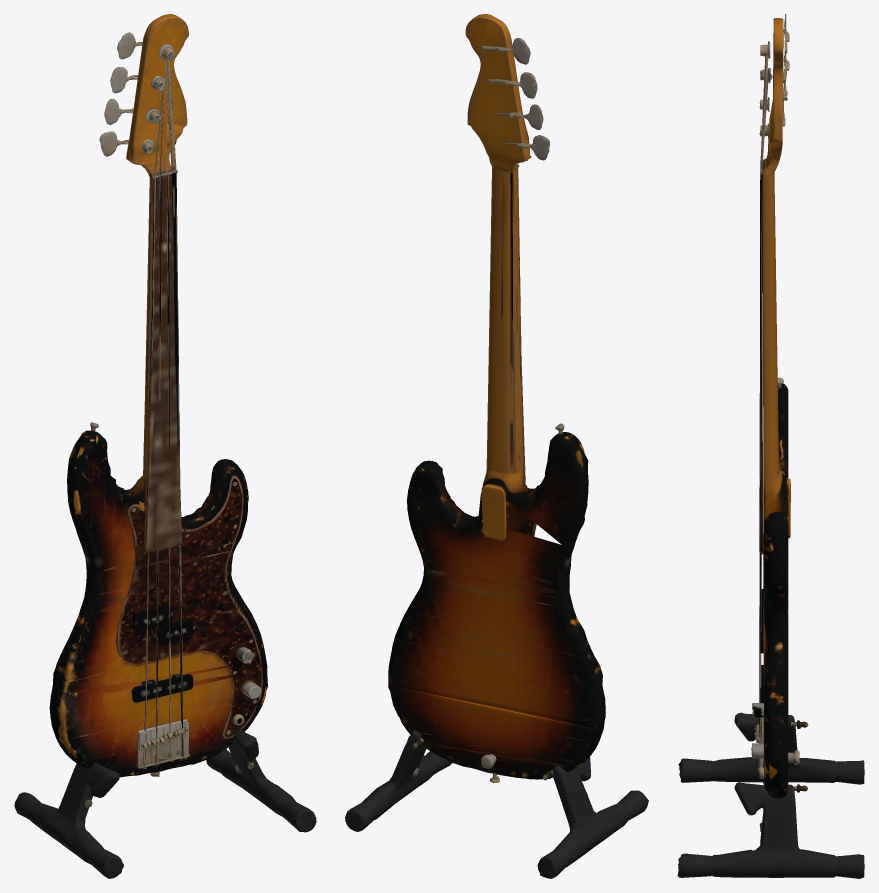
Rendered from desktop.glb.
3 views of the same model, side by side, from view 1: azimuth 30°, elevation 25°; view 2: azimuth 150°, elevation 25°; view 3: azimuth 270°, elevation 25° (orthographic).
Parts seen in each view (by area): view 1: bassguitar; view 2: bassguitar; view 3: bassguitar.
Part boxes in pixels (left/top/right/bottom): bassguitar: left=14, top=14, right=316, bottom=878; bassguitar: left=345, top=14, right=648, bottom=878; bassguitar: left=677, top=14, right=864, bottom=878.
Bounding box in the file's own units: 0.3236 × 1.15 × 0.2403.
1 material, 1 textured.
